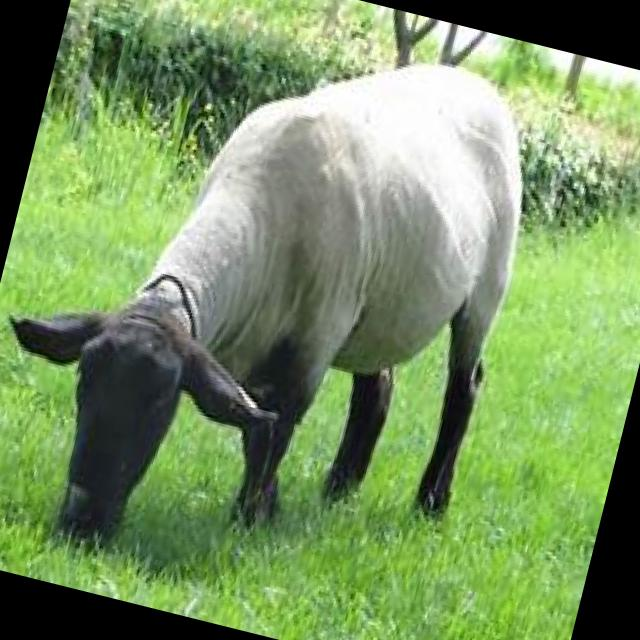cow: (0, 0, 560, 634)
